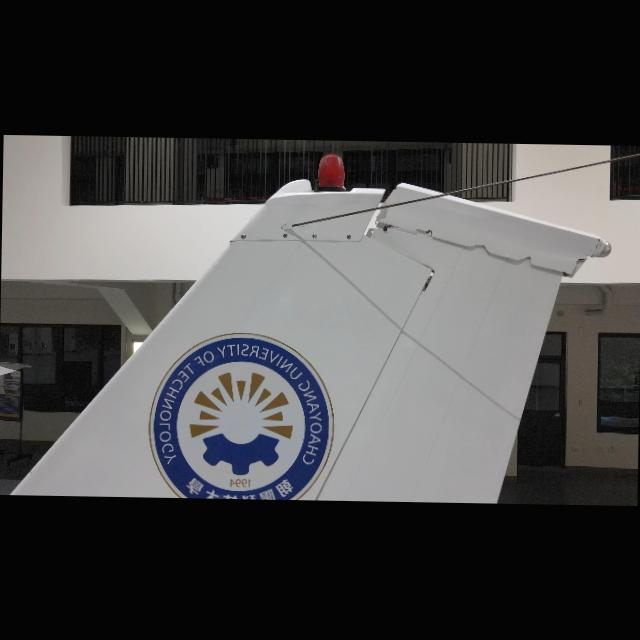Missing Fastener: (369, 228, 374, 234), (374, 220, 378, 224)
